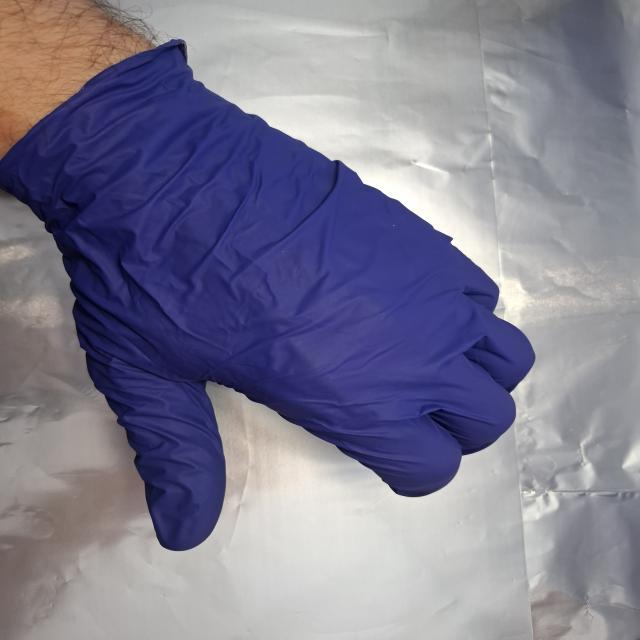glove_on: (26, 41, 542, 556)
